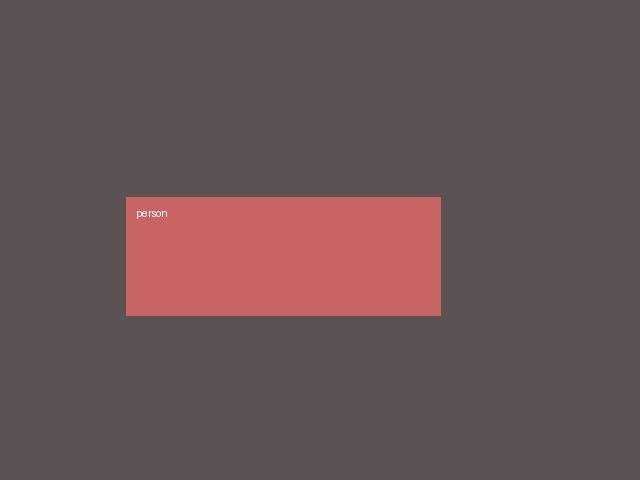person: (126, 197, 440, 315)
